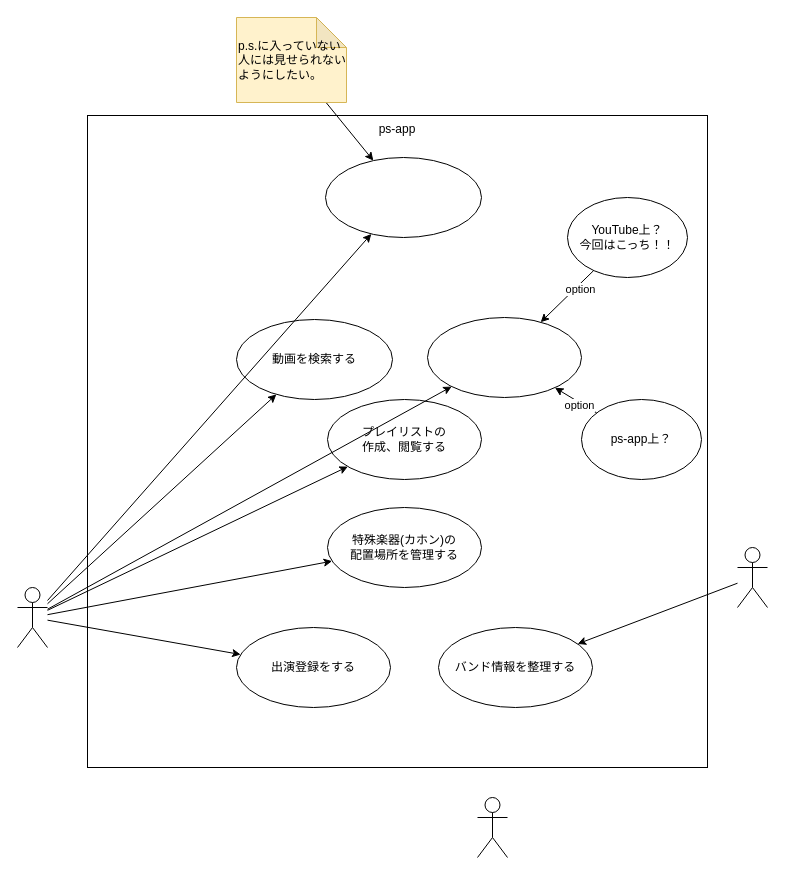
Some shapes in this 807 by 896 pixel diagram are drawn without their labels. The shapes that lost their labels are listed below. From the top down, each one's centre as x and y in pixels, then its label:
At (403,197): "会員登録 ログインする".
At (504,357): "動画を閲覧する".
At (752,577): "live cordinator".
At (32,617): "user".
At (492,827): "p.s.leader".
